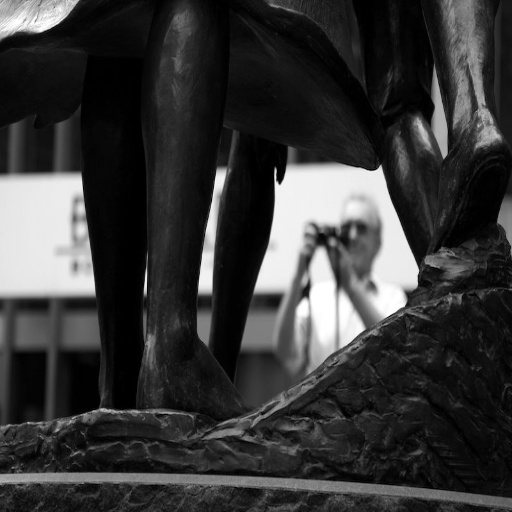hand: (325, 233, 355, 289), (300, 240, 314, 267)
